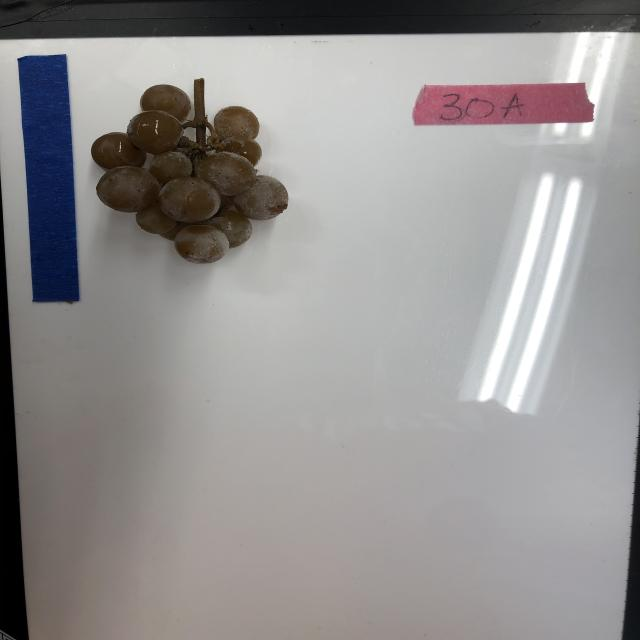grape_cluster: (91, 78, 292, 266)
index: (411, 80, 596, 129)
measure_label: (16, 52, 83, 305)
